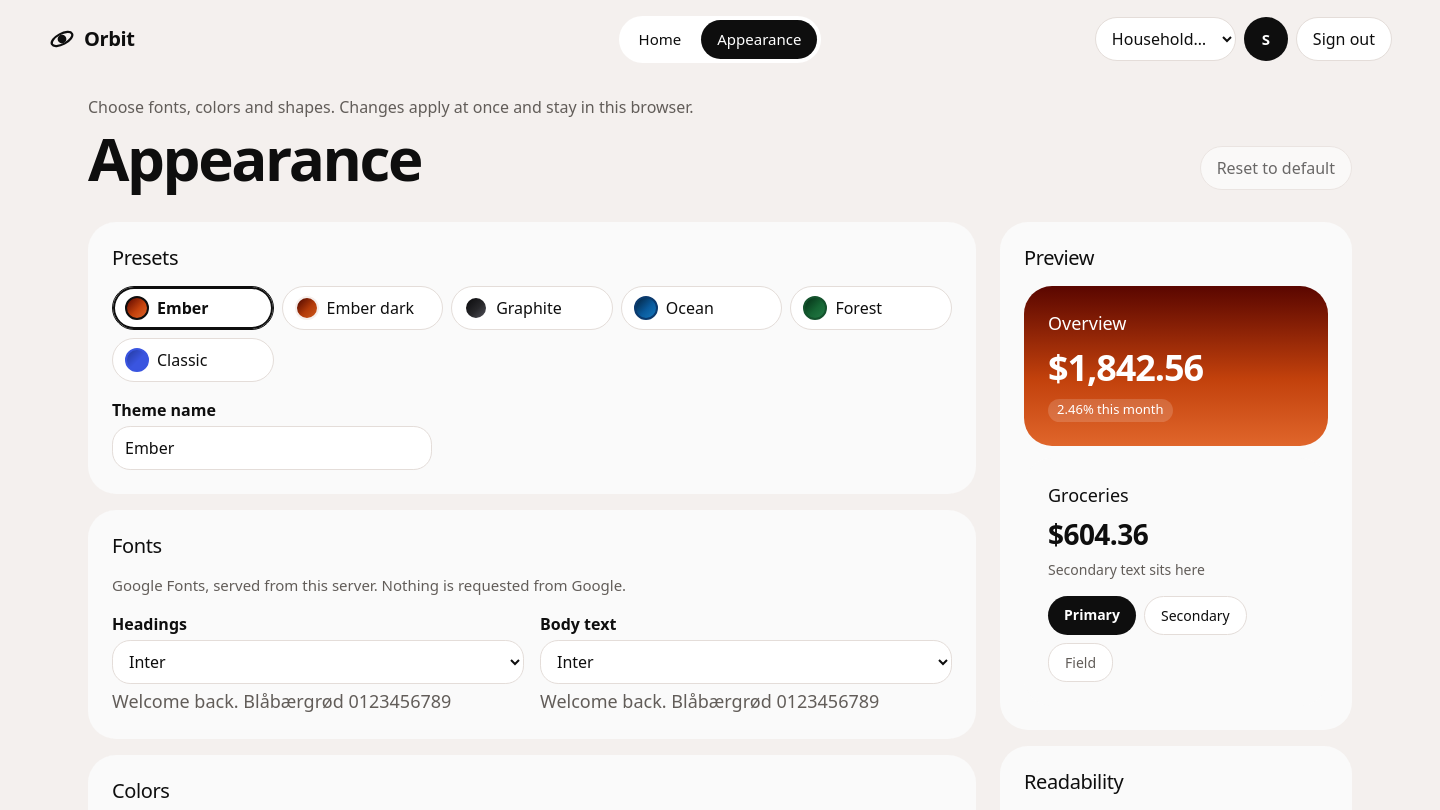
Scenario: appearance page › applies and saves a preset at once
Expected: the heading "Appearance" is shown, [88,116,421,198]
Click the button "Graphite". click: [532, 308]
box: [451,286,613,330]
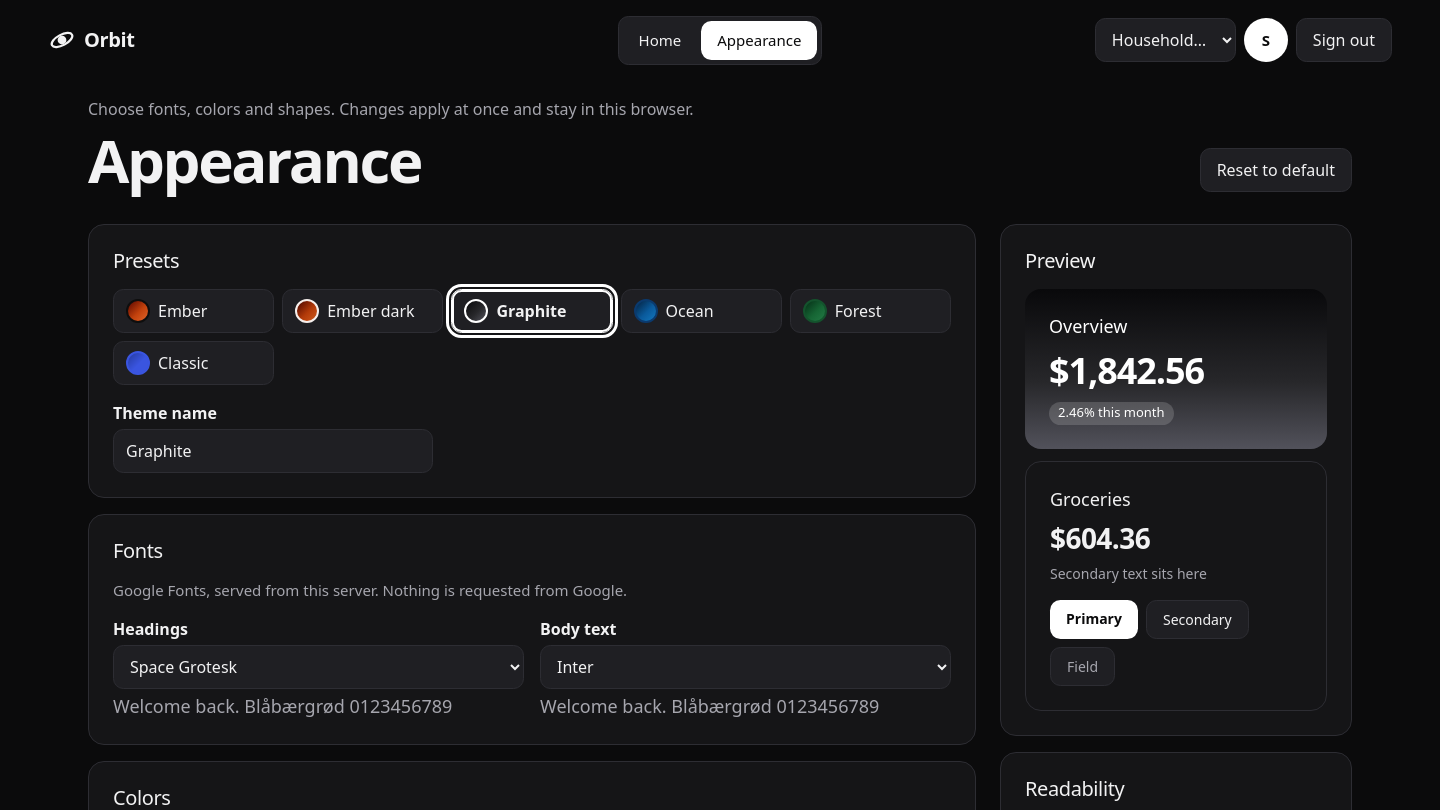
Expected: the button "Reset to default" is enabled, [1200,148,1352,192]
